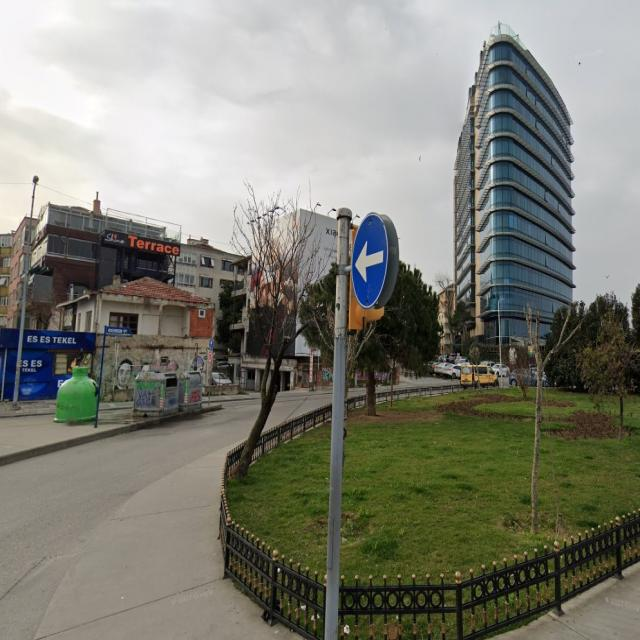Turn Left: (353, 211, 387, 312)
